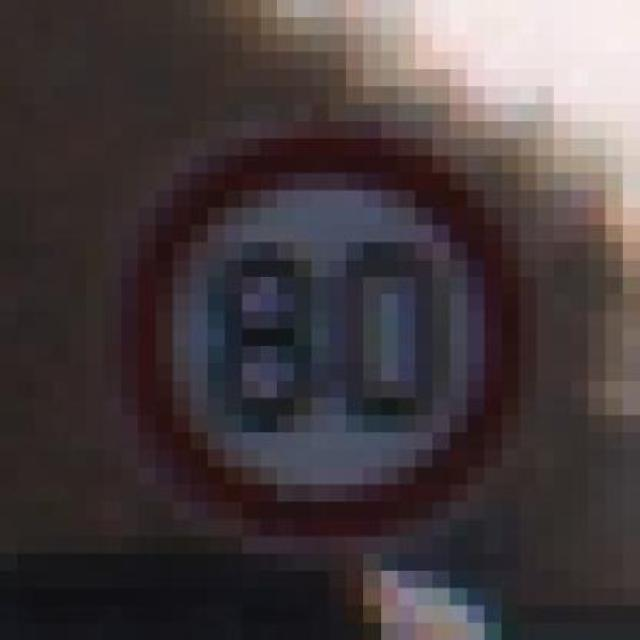forb_speed_over_80: (121, 133, 532, 539)
